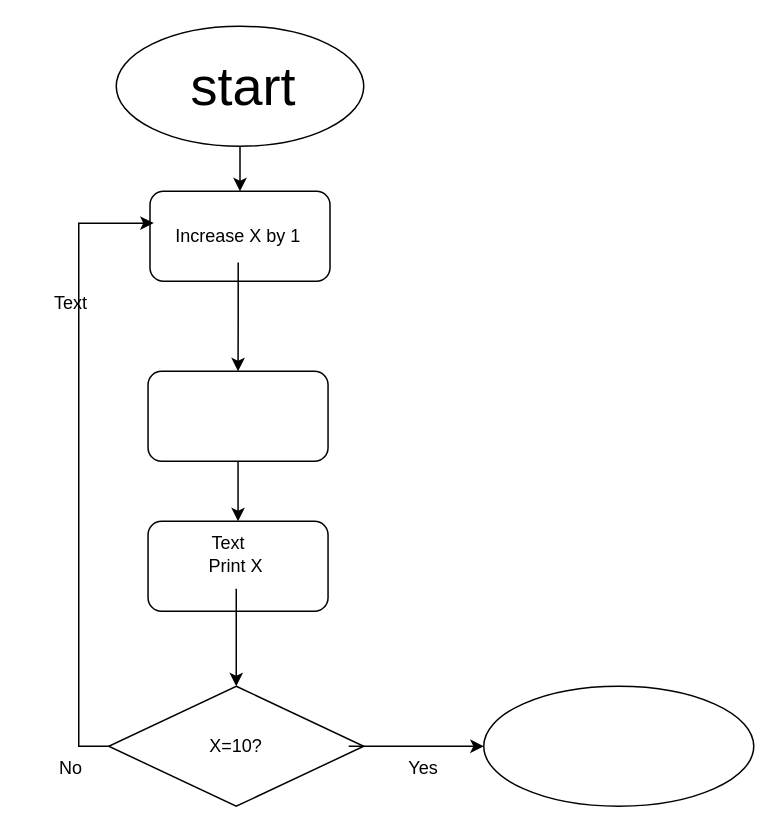
The diagram is 780 pixels wide and 833 high, and some of its shapes have lost their labels. Each missing label, with the centre of its shape:
Stop: [618,745]
Store result of X: [237,415]
